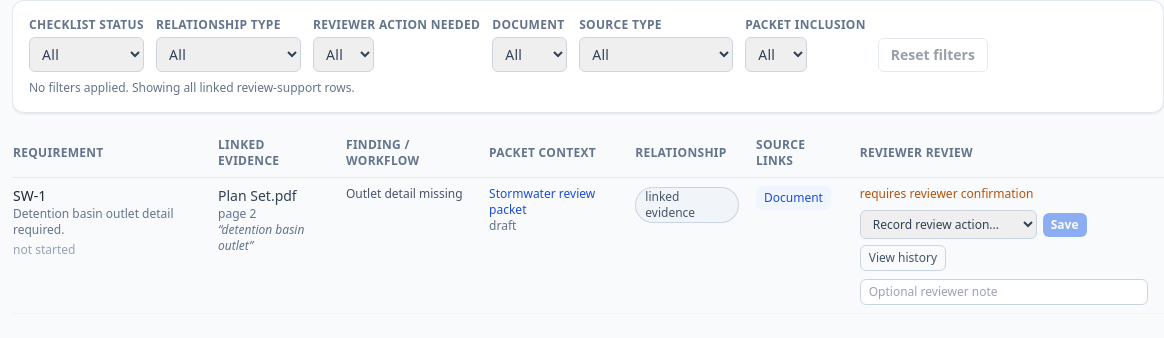
Test case: Traceability matrix packet context and review controls › renders reviewer controls and submits an action to the backend
The width and height of the screenshot is (1164, 338).
Check: the text "requires reviewer confirmation" is shown, box top-left (860, 185), bottom-right (1033, 202)
Select "Confirm link for review" in the dropdown named "Review action for SW-1" at (948, 224), box top-left (860, 210), bottom-right (1037, 239)
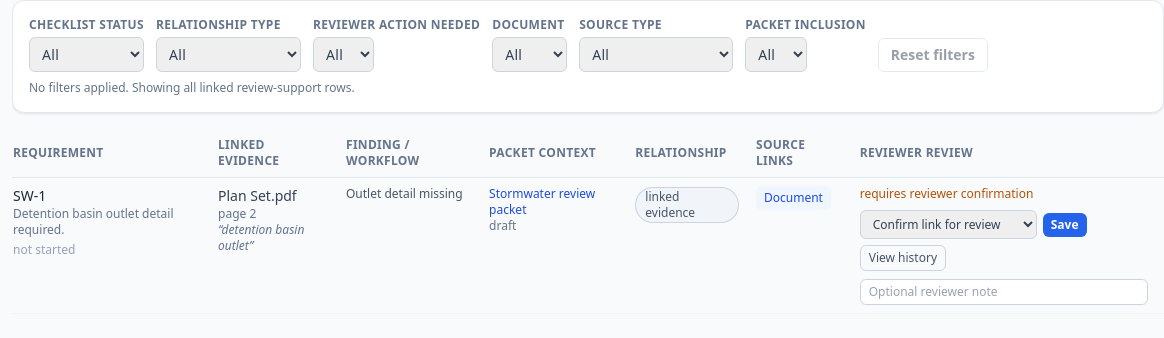
Type "Useful for review." into the field named "Reviewer note for SW-1" at (1004, 292), box top-left (860, 279), bottom-right (1148, 305)
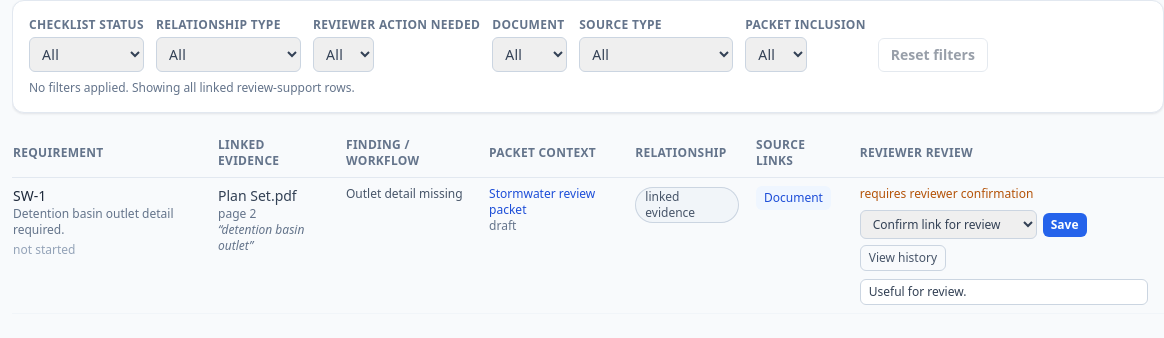
Click the button "Save" at (1065, 224), box top-left (1043, 212), bottom-right (1086, 236)
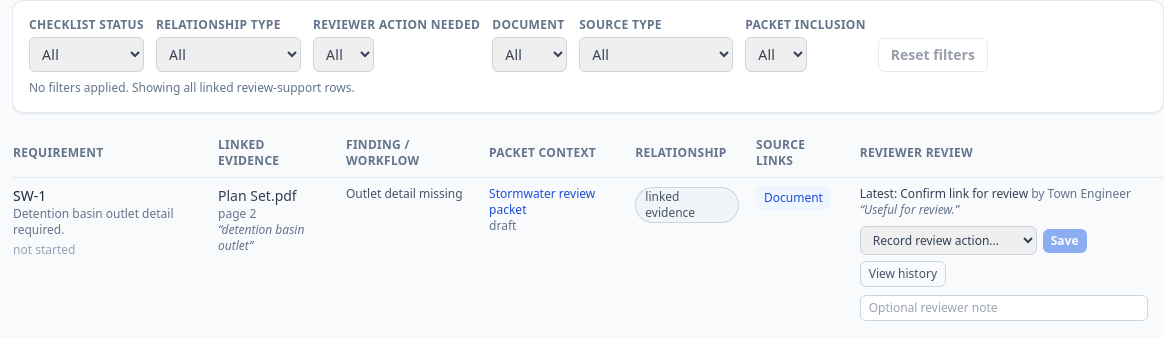
Check: the text "“Useful for review.”" is shown, box top-left (860, 201), bottom-right (959, 218)
Check: the text "requires reviewer confirmation" is gone
